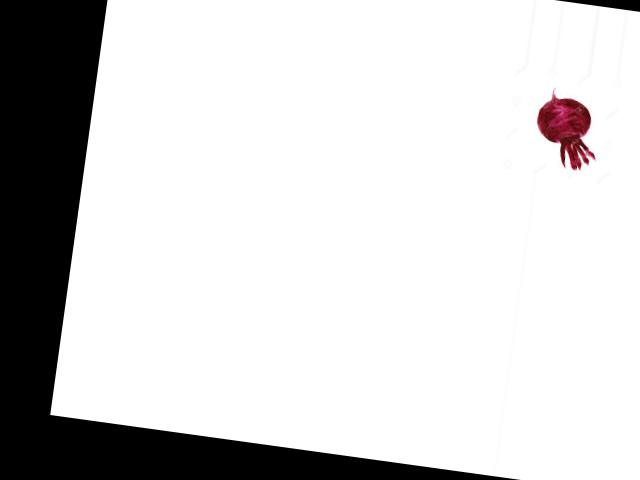beet: (530, 84, 604, 172)
